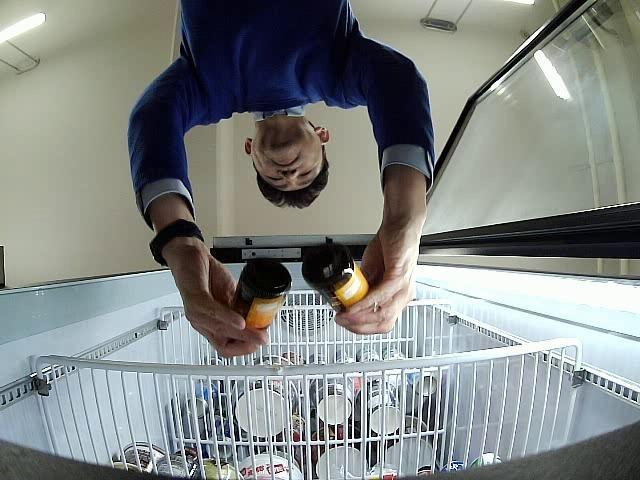17_vita500: (226, 258, 292, 344), (302, 243, 371, 314)
